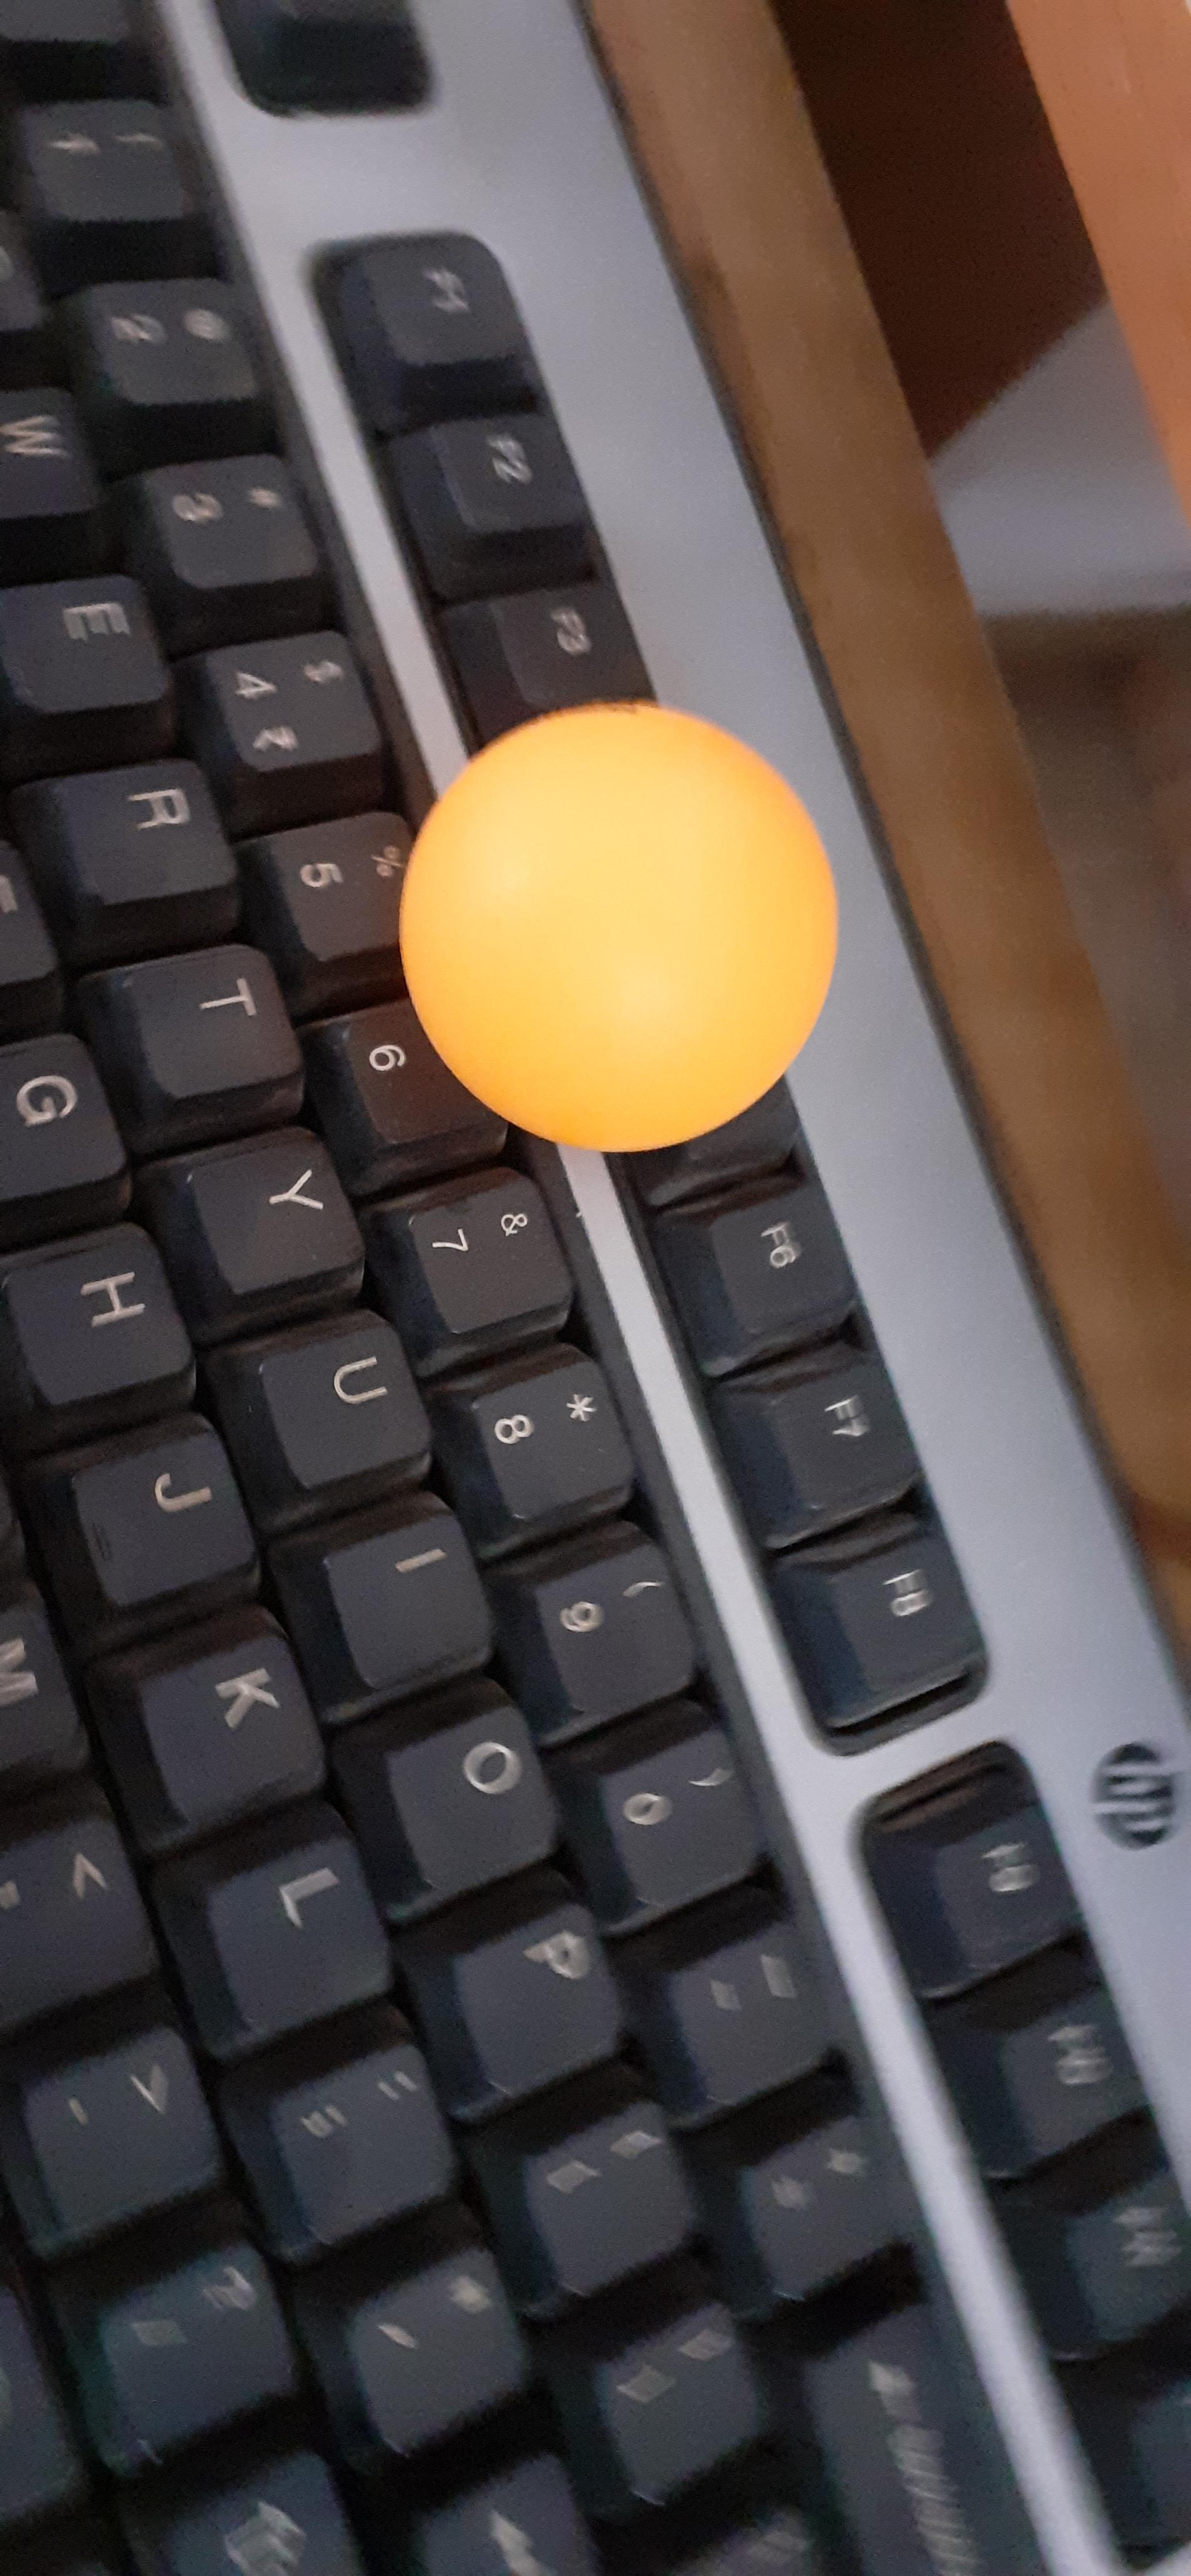orange: (406, 705, 843, 1160)
